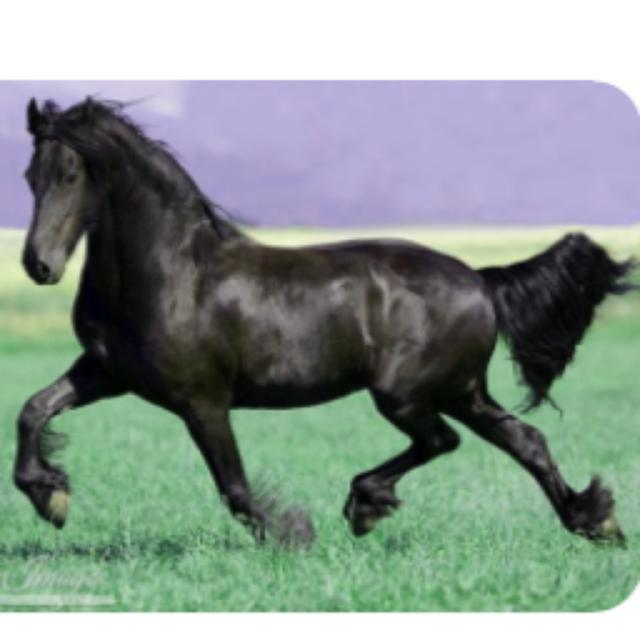Horse: (0, 88, 638, 558)
